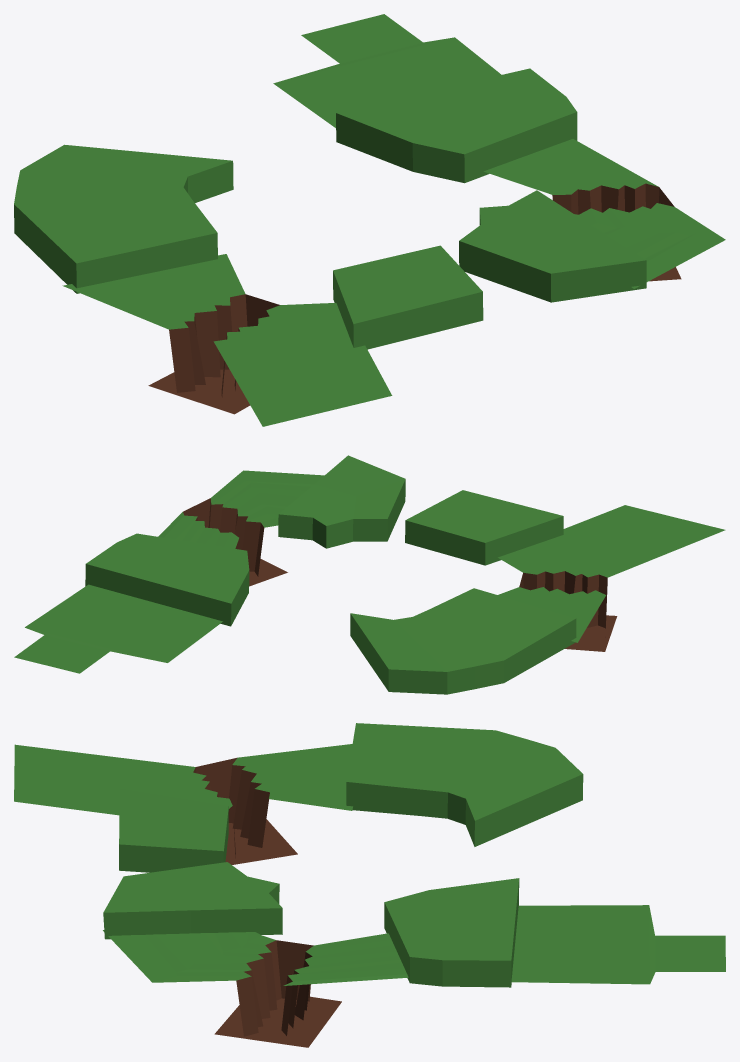
The model's file is ChaoPrimaveraBlocagem.fbx.
3 renders of one model, top to bottom at view 1: azimuth 30°, elevation 25°; view 2: azimuth 150°, elevation 25°; view 3: azimuth 270°, elevation 25°, orthographic. The views are drawn at different scales.
Parts seen in each view (by area): view 1: Chao; view 2: Chao; view 3: Chao.
Part boxes in pixels (x1,y1,x2,y2): Chao: [14, 14, 725, 426]; Chao: [14, 455, 725, 694]; Chao: [14, 723, 725, 1047].
Size of the model in its own units: 17900 by 2764 by 21569.
